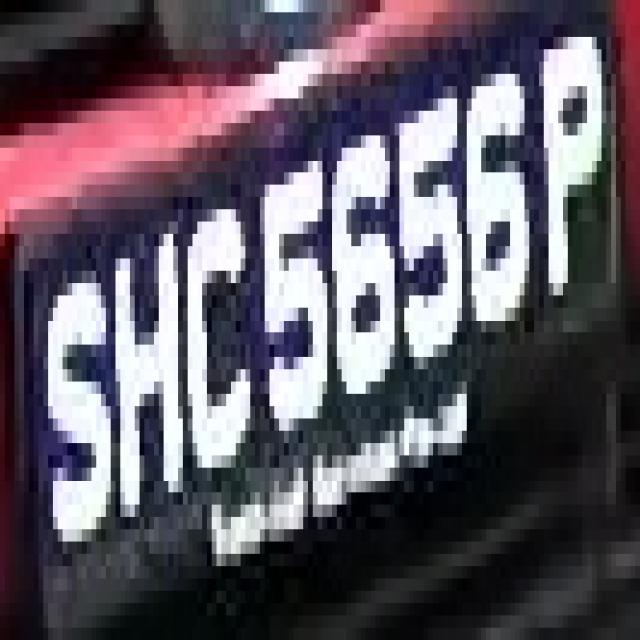5: (390, 25, 467, 369), (250, 148, 337, 443)
6: (452, 49, 534, 369), (318, 123, 409, 406)
C: (188, 172, 260, 492)
H: (106, 197, 183, 529)
P: (529, 12, 611, 308)
S: (34, 222, 116, 542)
